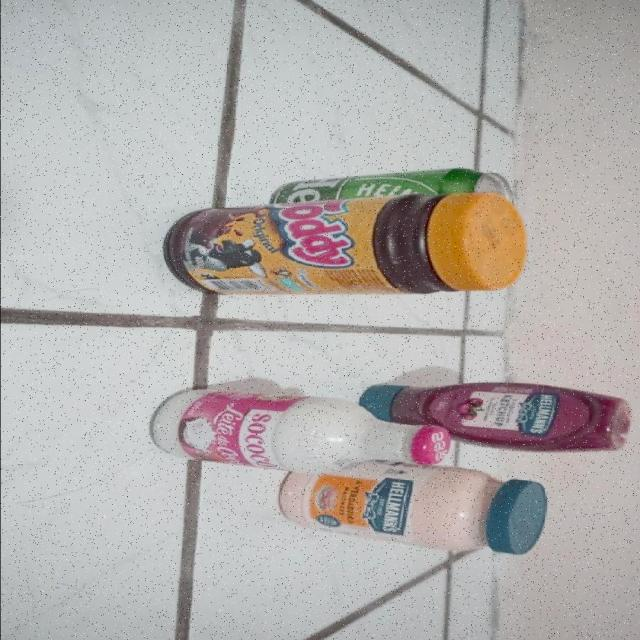BeerCan: (280, 163, 513, 196)
ChocolatePowder: (170, 193, 525, 294)
CoconutMilk: (155, 392, 448, 471)
Ketchup: (456, 382, 640, 452)
Mayonnaise: (279, 470, 549, 554)
